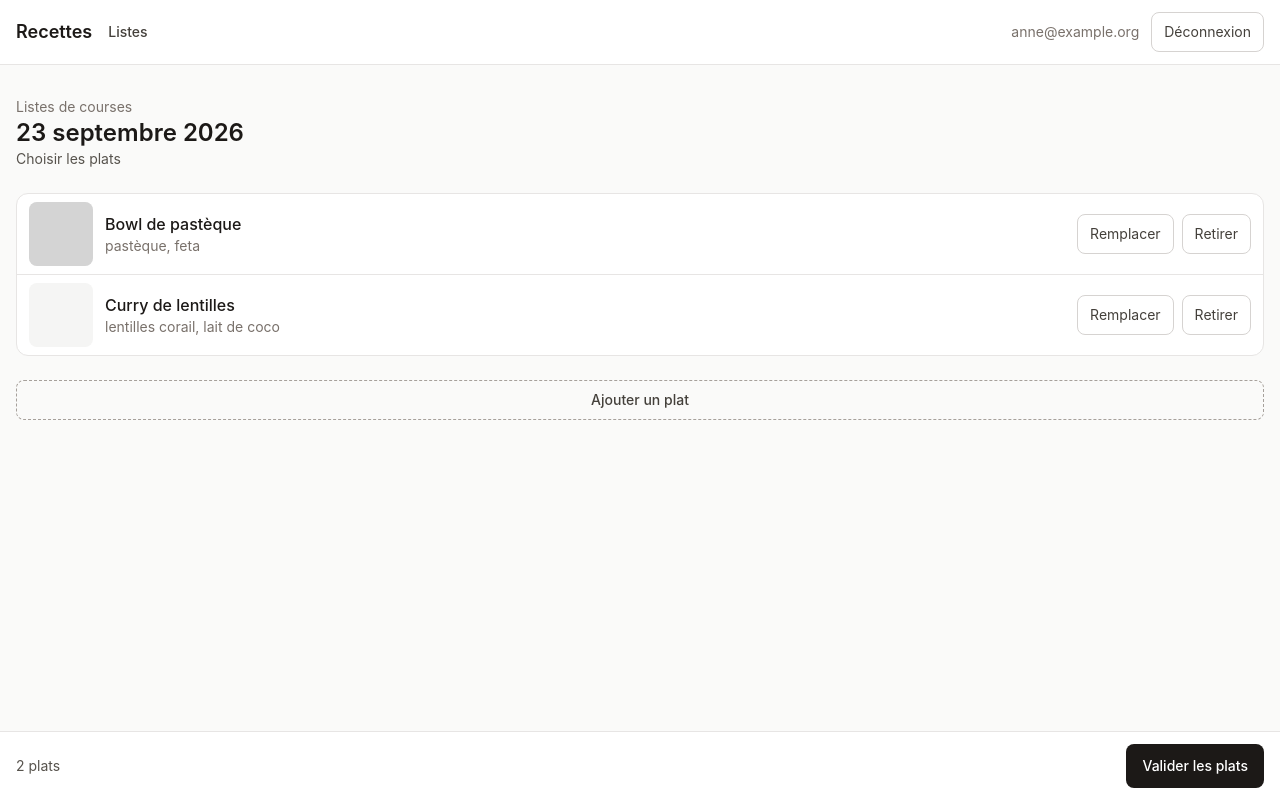
Test: préparation d'une liste › autres propositions relance un tirage
The image size is (1280, 800).
Expected: the text "Curry de lentilles" is shown, [105, 295, 235, 315]
Click the button "Ajouter un plat". click: (640, 400)
box: [16, 380, 1264, 420]
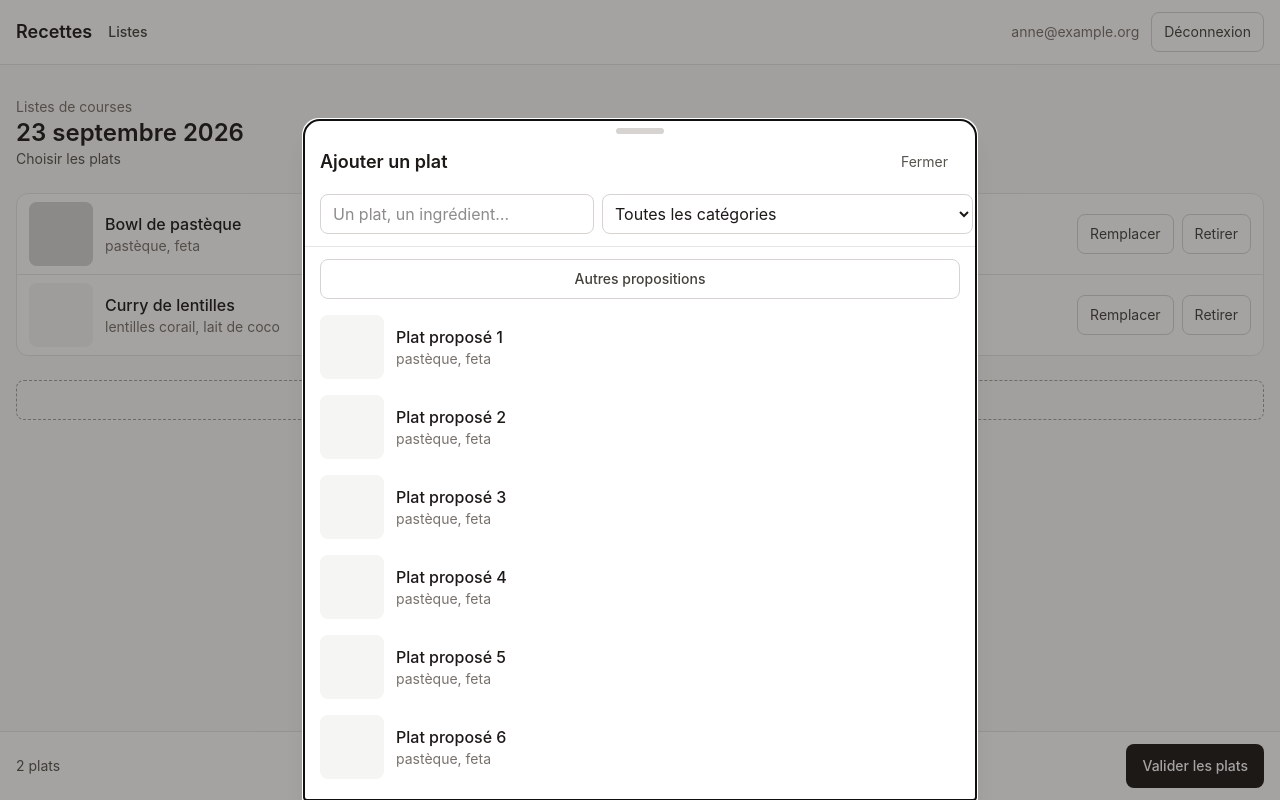
Expected: the text "Plat proposé 6" is shown, [396, 725, 506, 749]
Click the button "Autres propositions". click: (640, 279)
box: [320, 259, 960, 299]
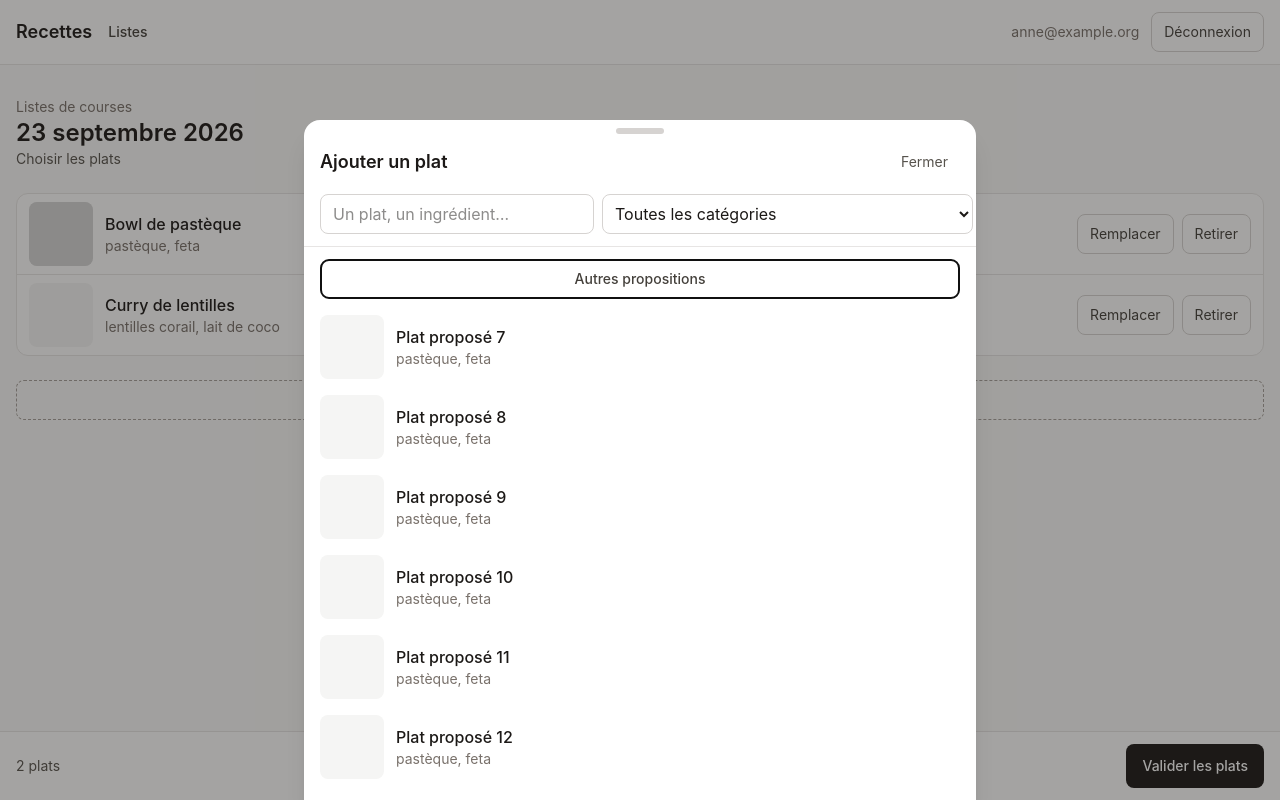
Expected: the text "Plat proposé 12" is shown, [396, 725, 513, 749]
